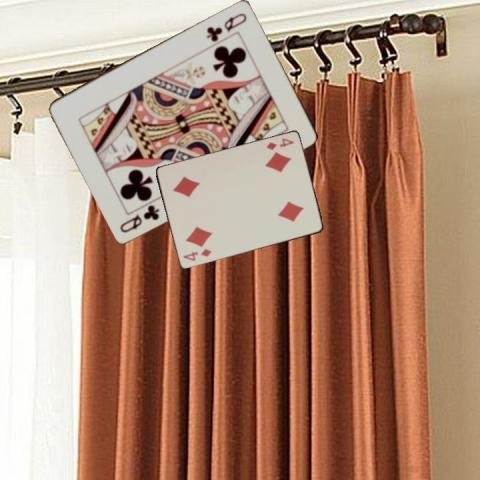4d: (180, 246, 213, 263), (263, 136, 295, 152)
Qc: (203, 9, 249, 42), (117, 201, 161, 234)
